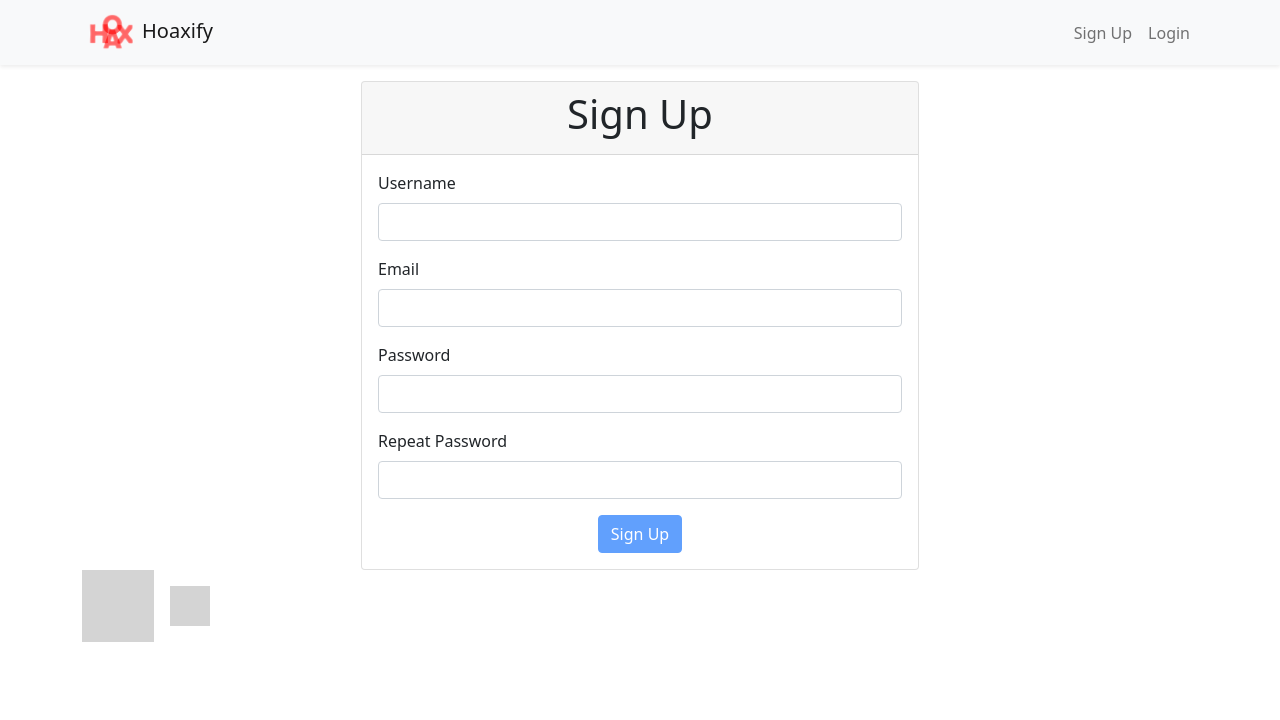
Test: Routing › displays sign up page after clicking sign up link
The image size is (1280, 720).
Click the link "Login" at [1169, 33], box [1148,22,1190,44]
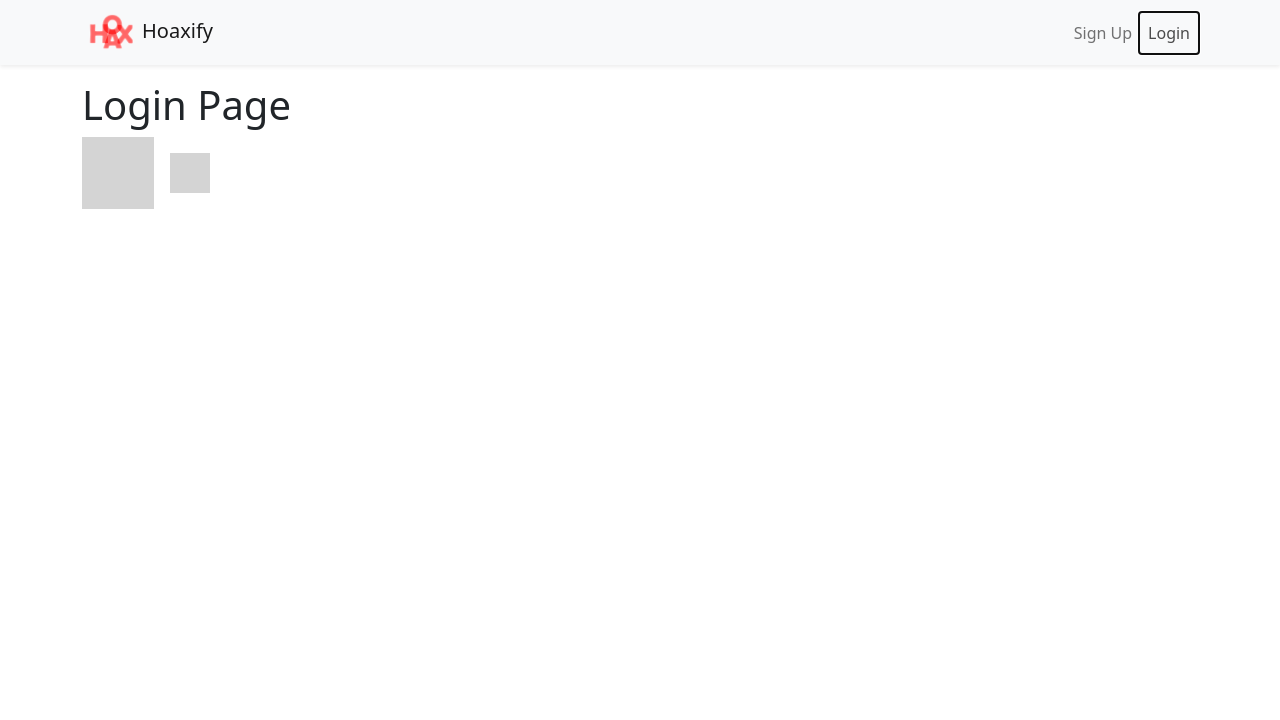
expect the element with test id "login-page" is shown: met, box [82,77,291,132]
